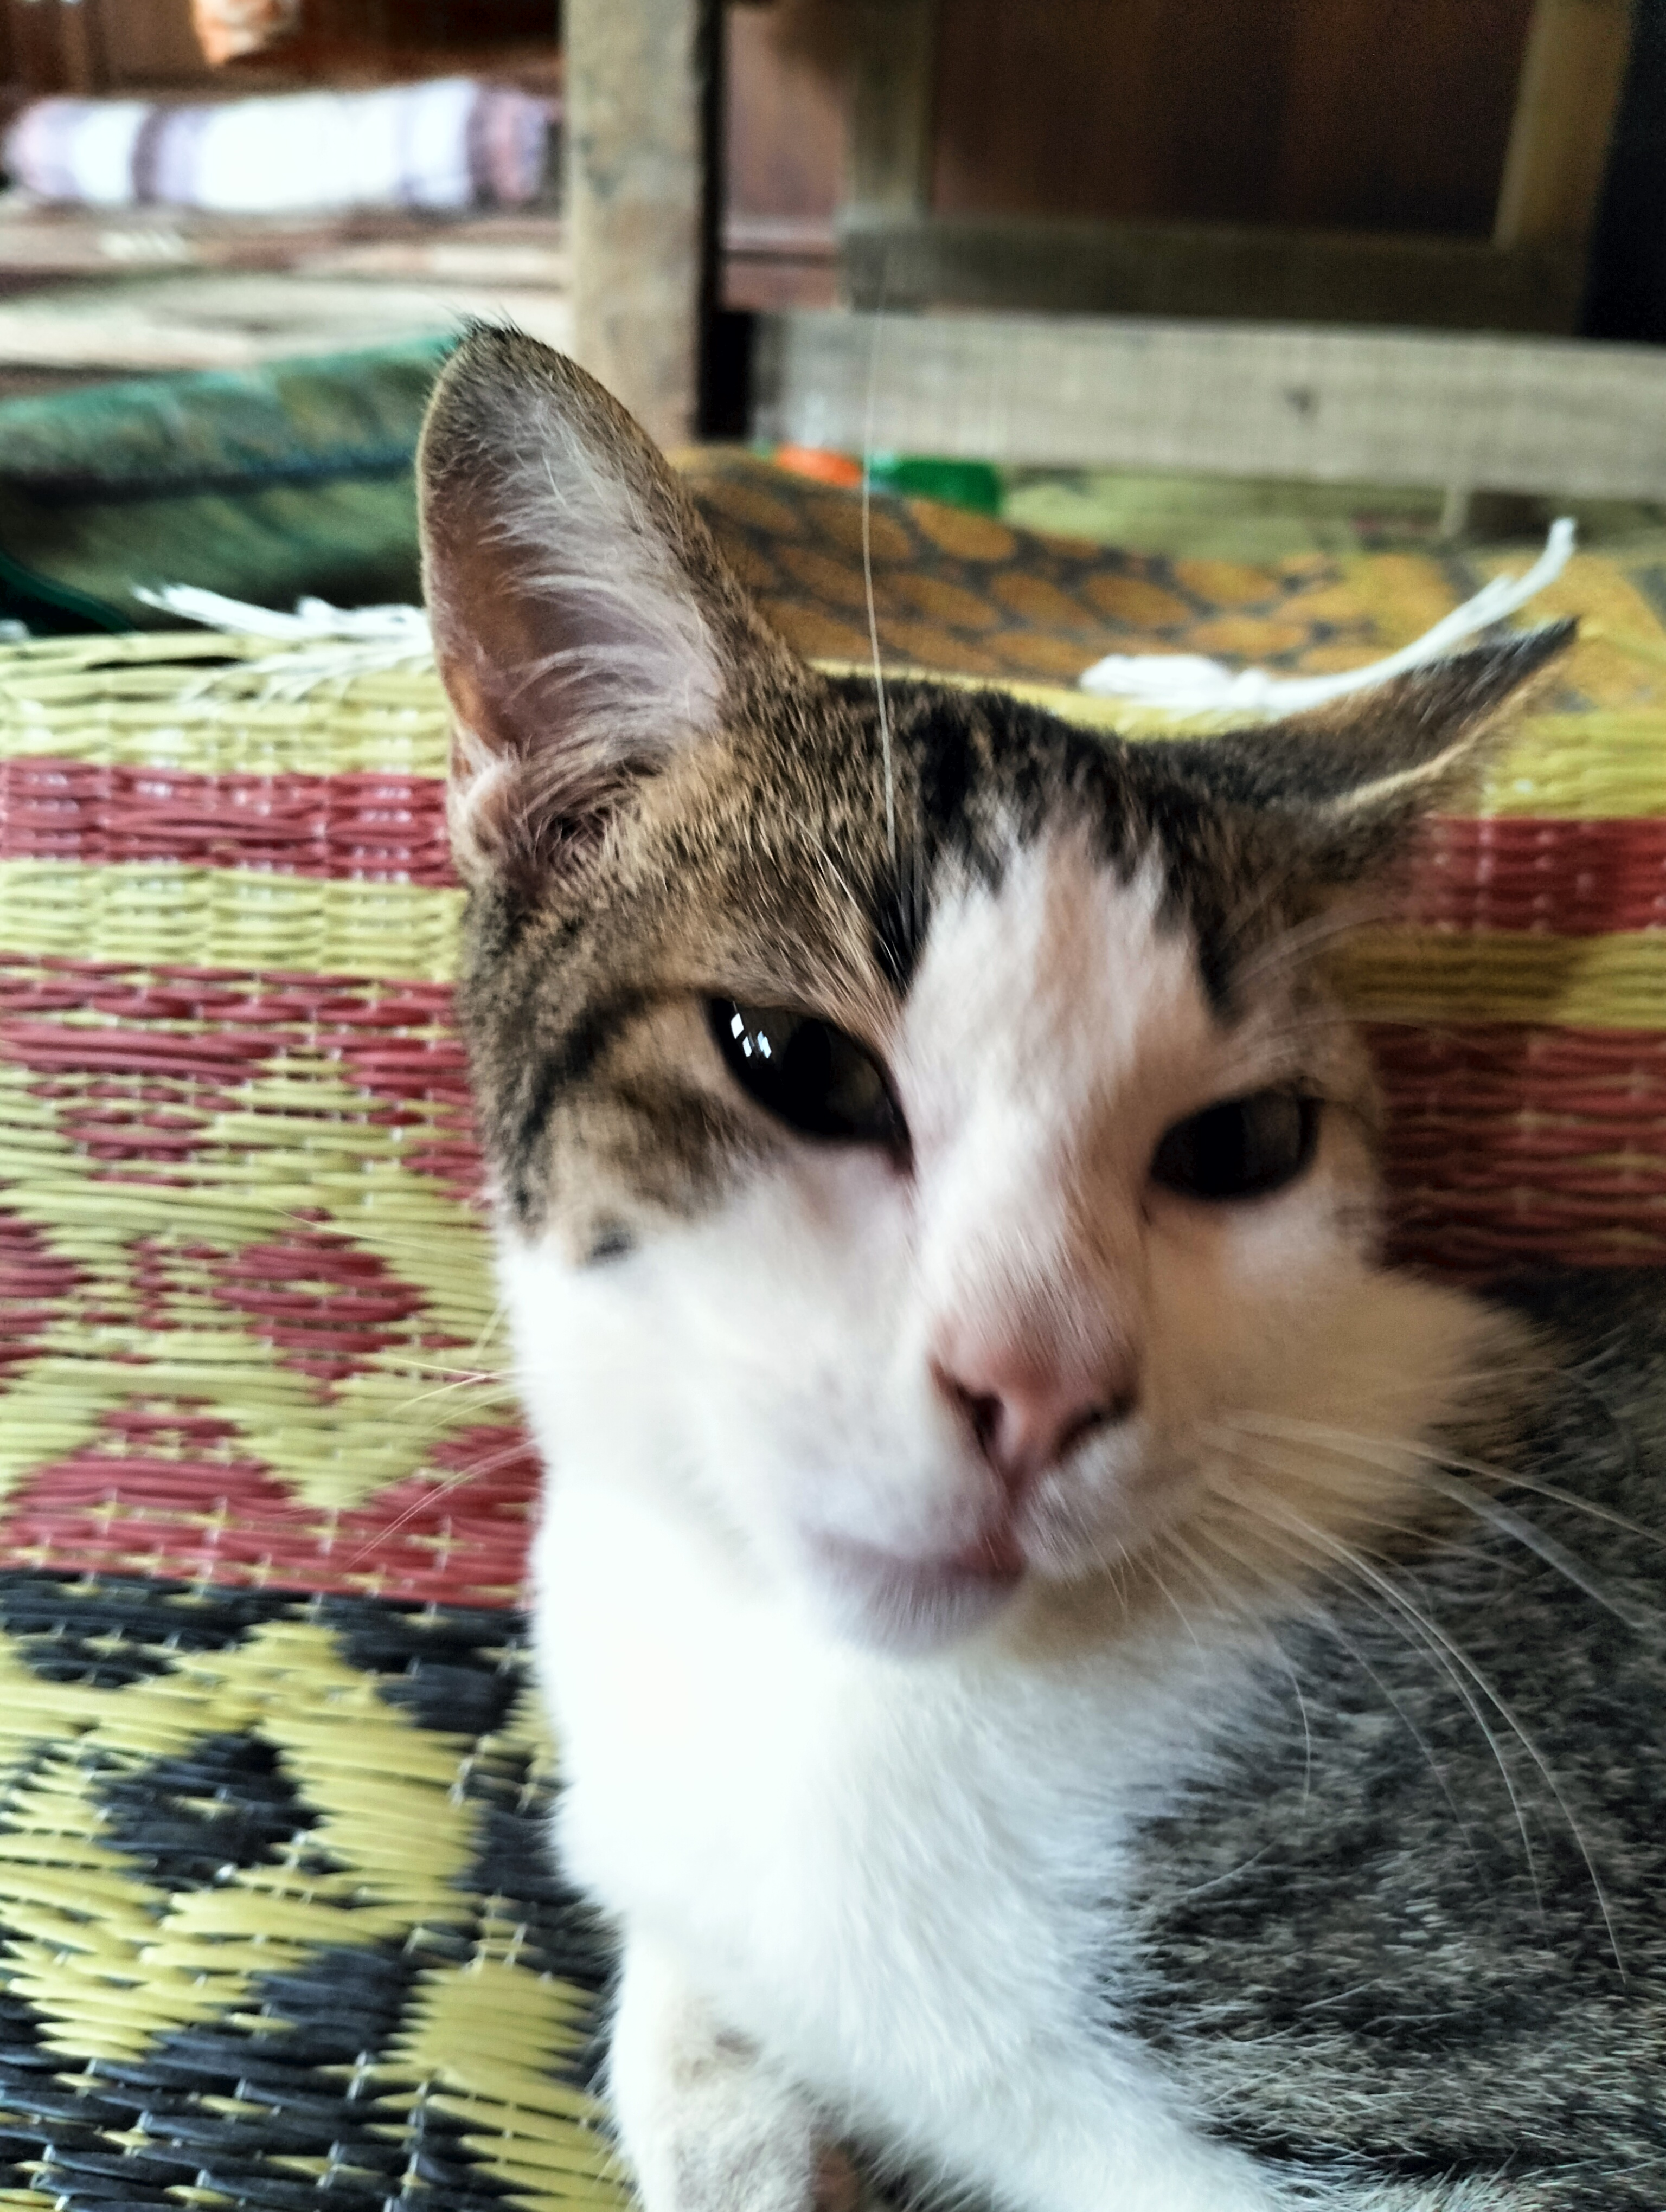miki: (371, 254, 1664, 1738)
